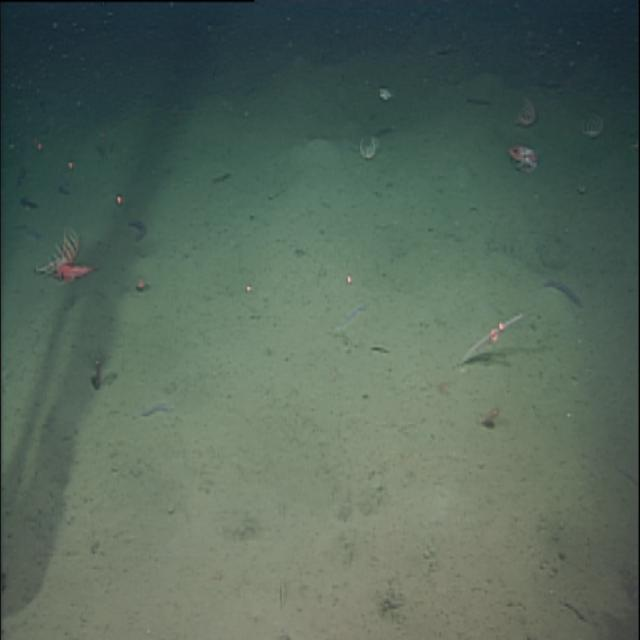Brittle Star: (481, 315, 511, 350)
Not Brittle Star: (450, 306, 528, 376), (30, 224, 89, 278), (51, 249, 100, 290), (501, 140, 545, 180), (576, 100, 609, 145), (352, 129, 383, 165), (511, 99, 542, 133), (474, 404, 512, 430), (374, 84, 397, 107)
